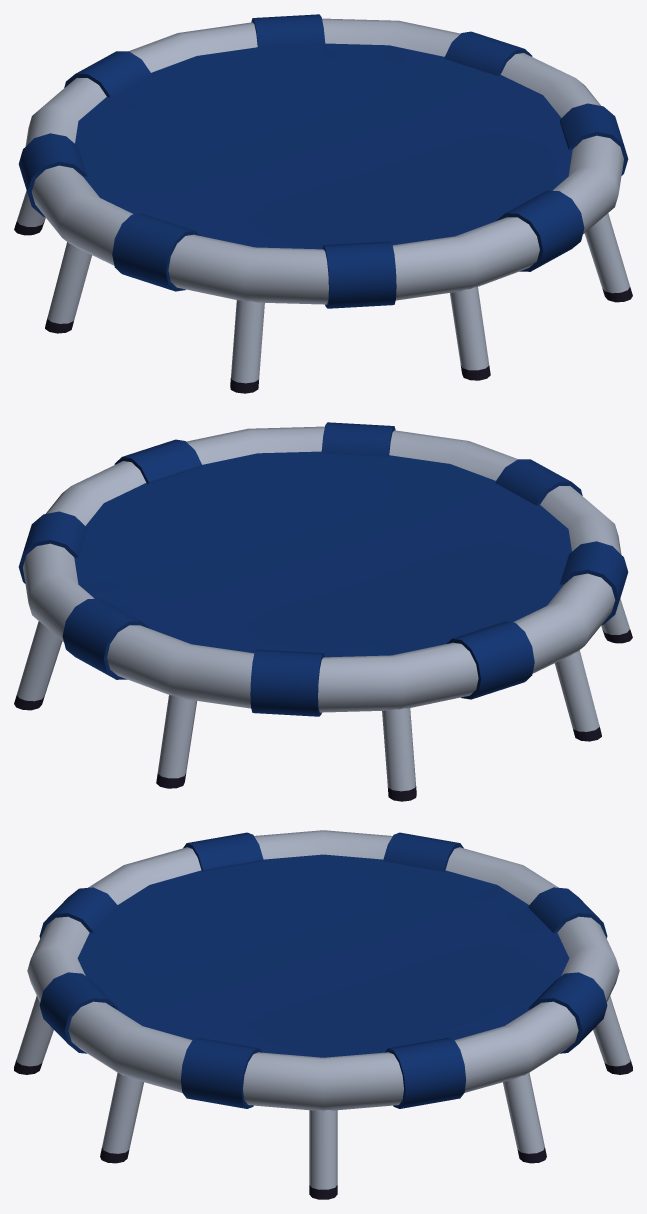
File: trampoline.glb
3 views of the same model, one above another, from view 1: azimuth 30°, elevation 25°; view 2: azimuth 150°, elevation 25°; view 3: azimuth 270°, elevation 25° (orthographic). The views are drawn at different scales.
Visible parts, largest first — view 1: trampoline; view 2: trampoline; view 3: trampoline.
Boxes of the visible parts, left/top/right/bottom form: trampoline: left=14, top=14, right=632, bottom=393; trampoline: left=14, top=422, right=632, bottom=801; trampoline: left=14, top=830, right=632, bottom=1199.
Size of the model in its own units: 2.76 by 0.621 by 2.76.
Materials: 1 (1 with a texture image).
